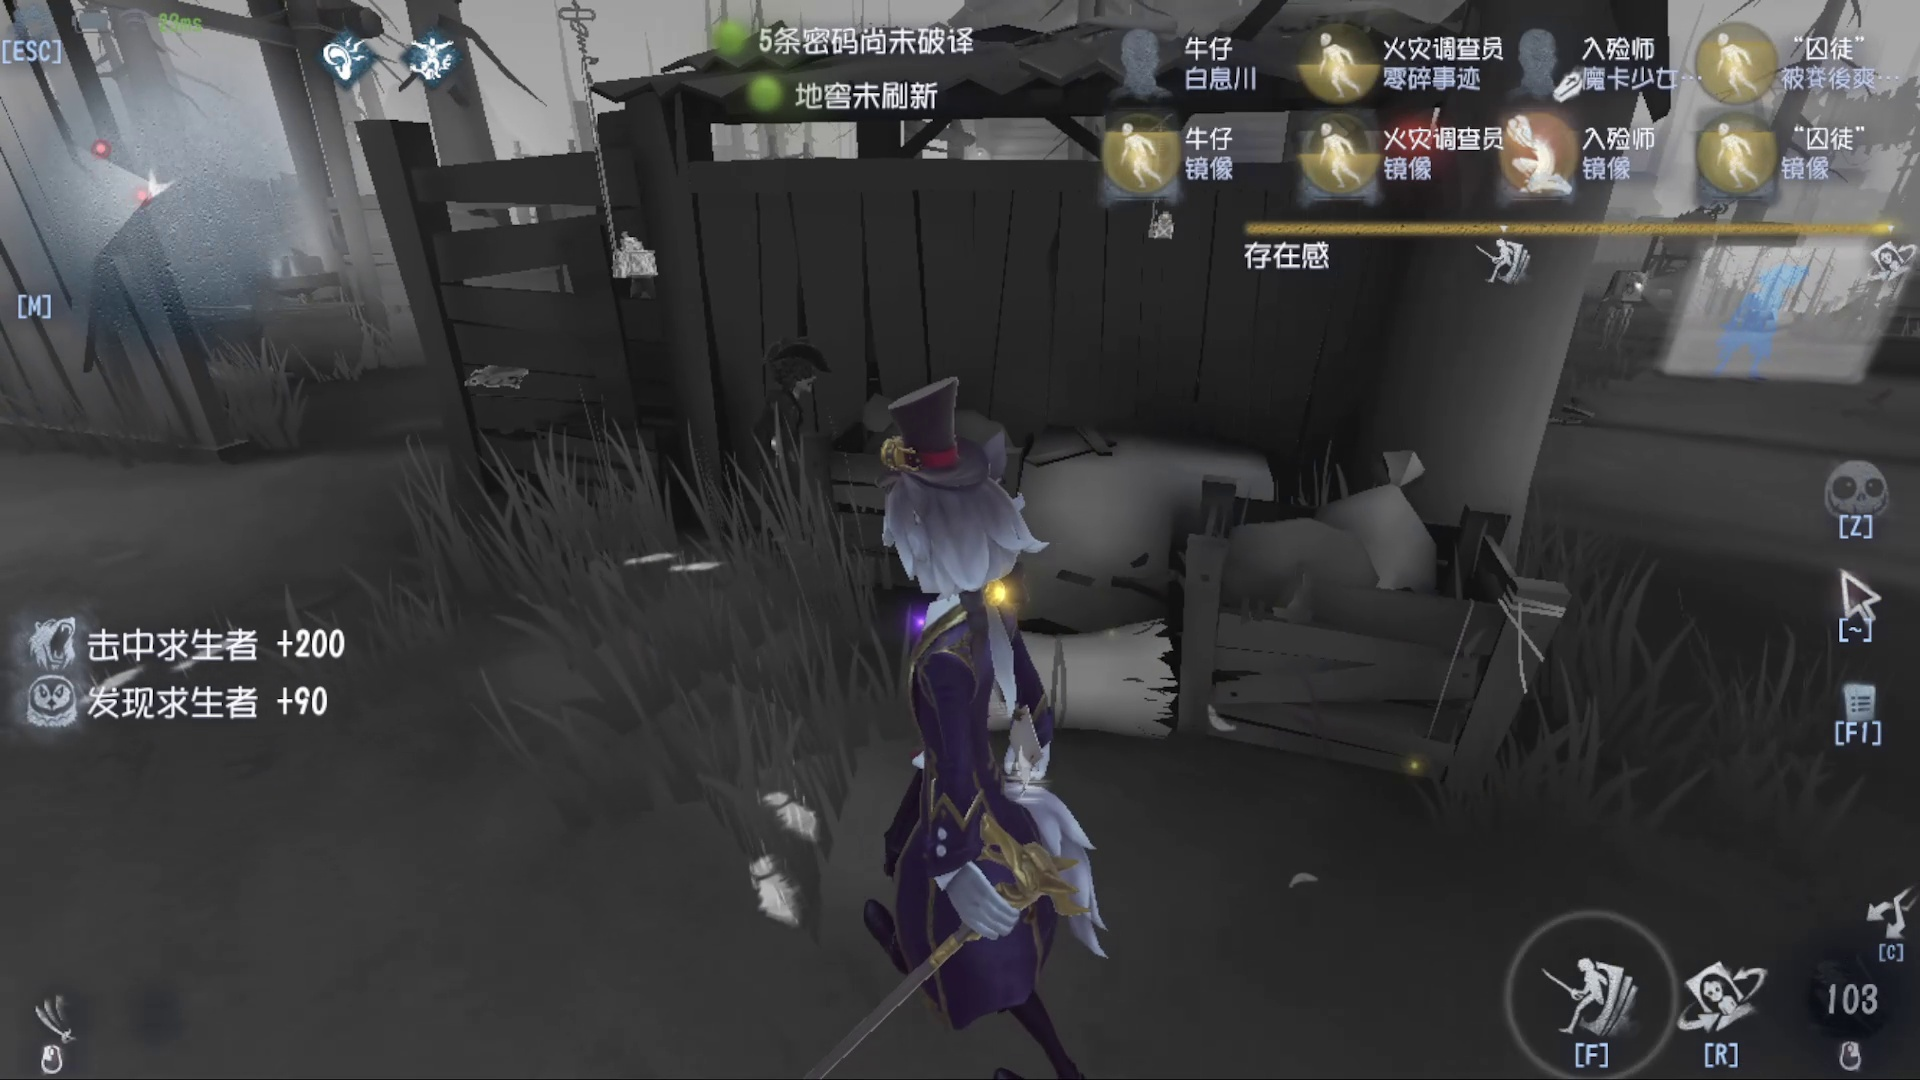密码机: (538, 16, 673, 285)
求生者: (724, 334, 829, 512)
